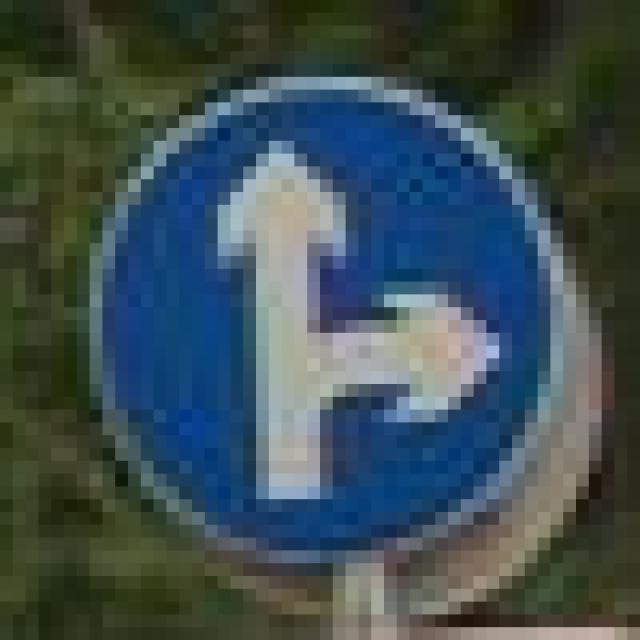compulsory_ahead_or_left: (64, 51, 563, 563)
